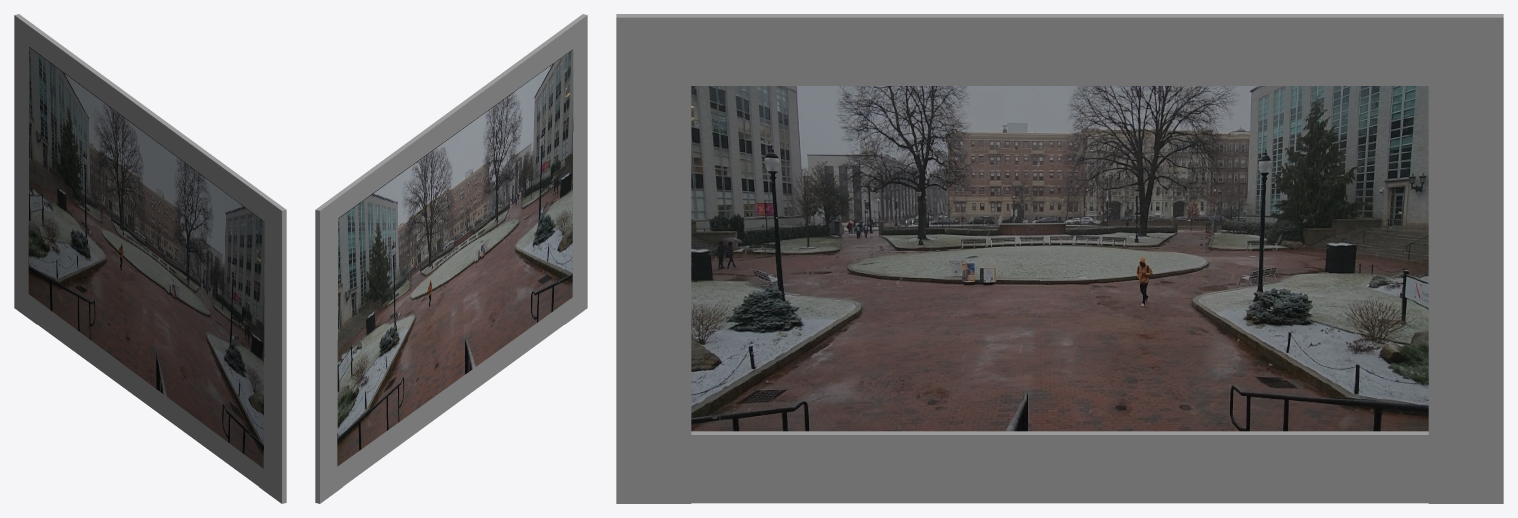
The model's file is window4.fbx.
3 views of the same model, side by side, from view 1: azimuth 30°, elevation 25°; view 2: azimuth 150°, elevation 25°; view 3: azimuth 270°, elevation 25° (orthographic). The views are drawn at different scales.
Visible parts, largest first — view 1: pPlane1, pCube4, pCube1, pCube2, pCube3; view 2: pPlane1, pCube4, pCube1, pCube3, pCube2; view 3: pPlane1, pCube1, pCube4, pCube2, pCube3.
Boxes of the visible parts, x1,y1,x2,y2 form: pPlane1: (28,47,264,468); pCube4: (14,14,286,251); pCube1: (14,267,281,503); pCube2: (259,195,286,503); pCube3: (14,16,36,324); pPlane1: (337,49,573,466); pCube4: (315,14,587,249); pCube1: (320,267,587,503); pCube3: (315,195,342,503); pCube2: (565,27,587,324); pPlane1: (691,86,1428,431); pCube1: (616,431,1503,503); pCube4: (616,14,1503,85); pCube2: (616,18,691,503); pCube3: (1428,18,1503,503).
Size of the model in its own units: 0.682 by 30.47 by 50.41.
